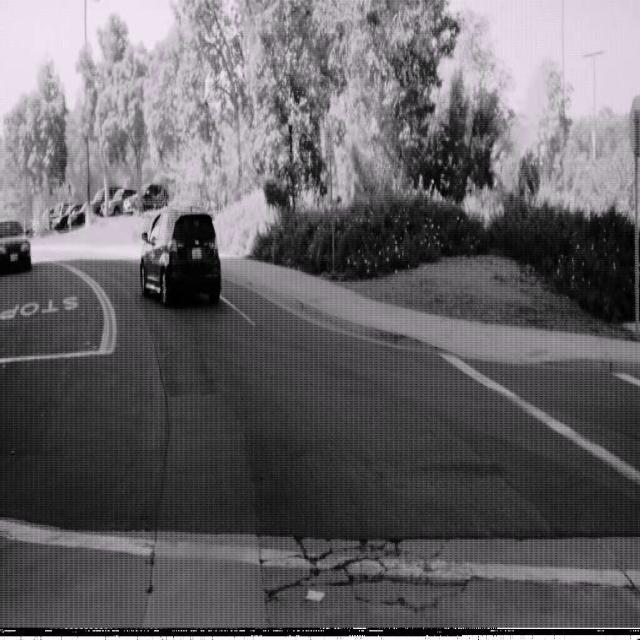pedestrianCrossing: (61, 175, 78, 208)
